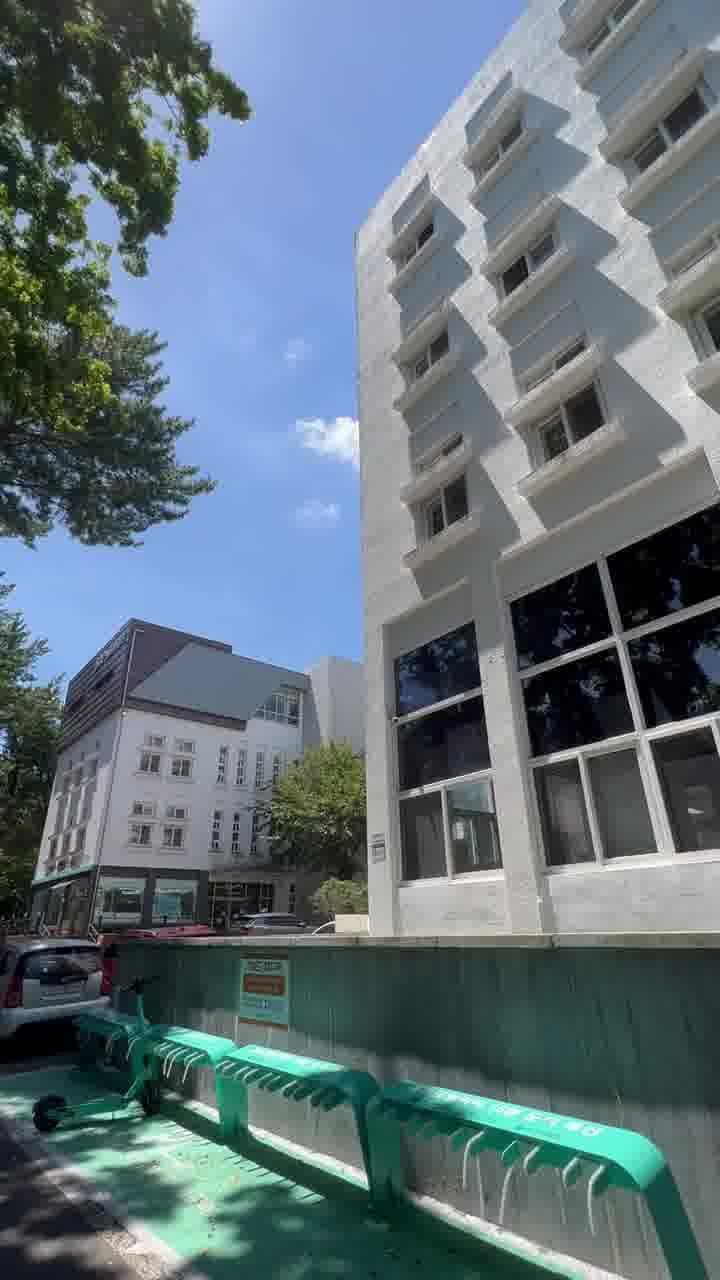building: (345, 38, 720, 941), (36, 582, 236, 894)
